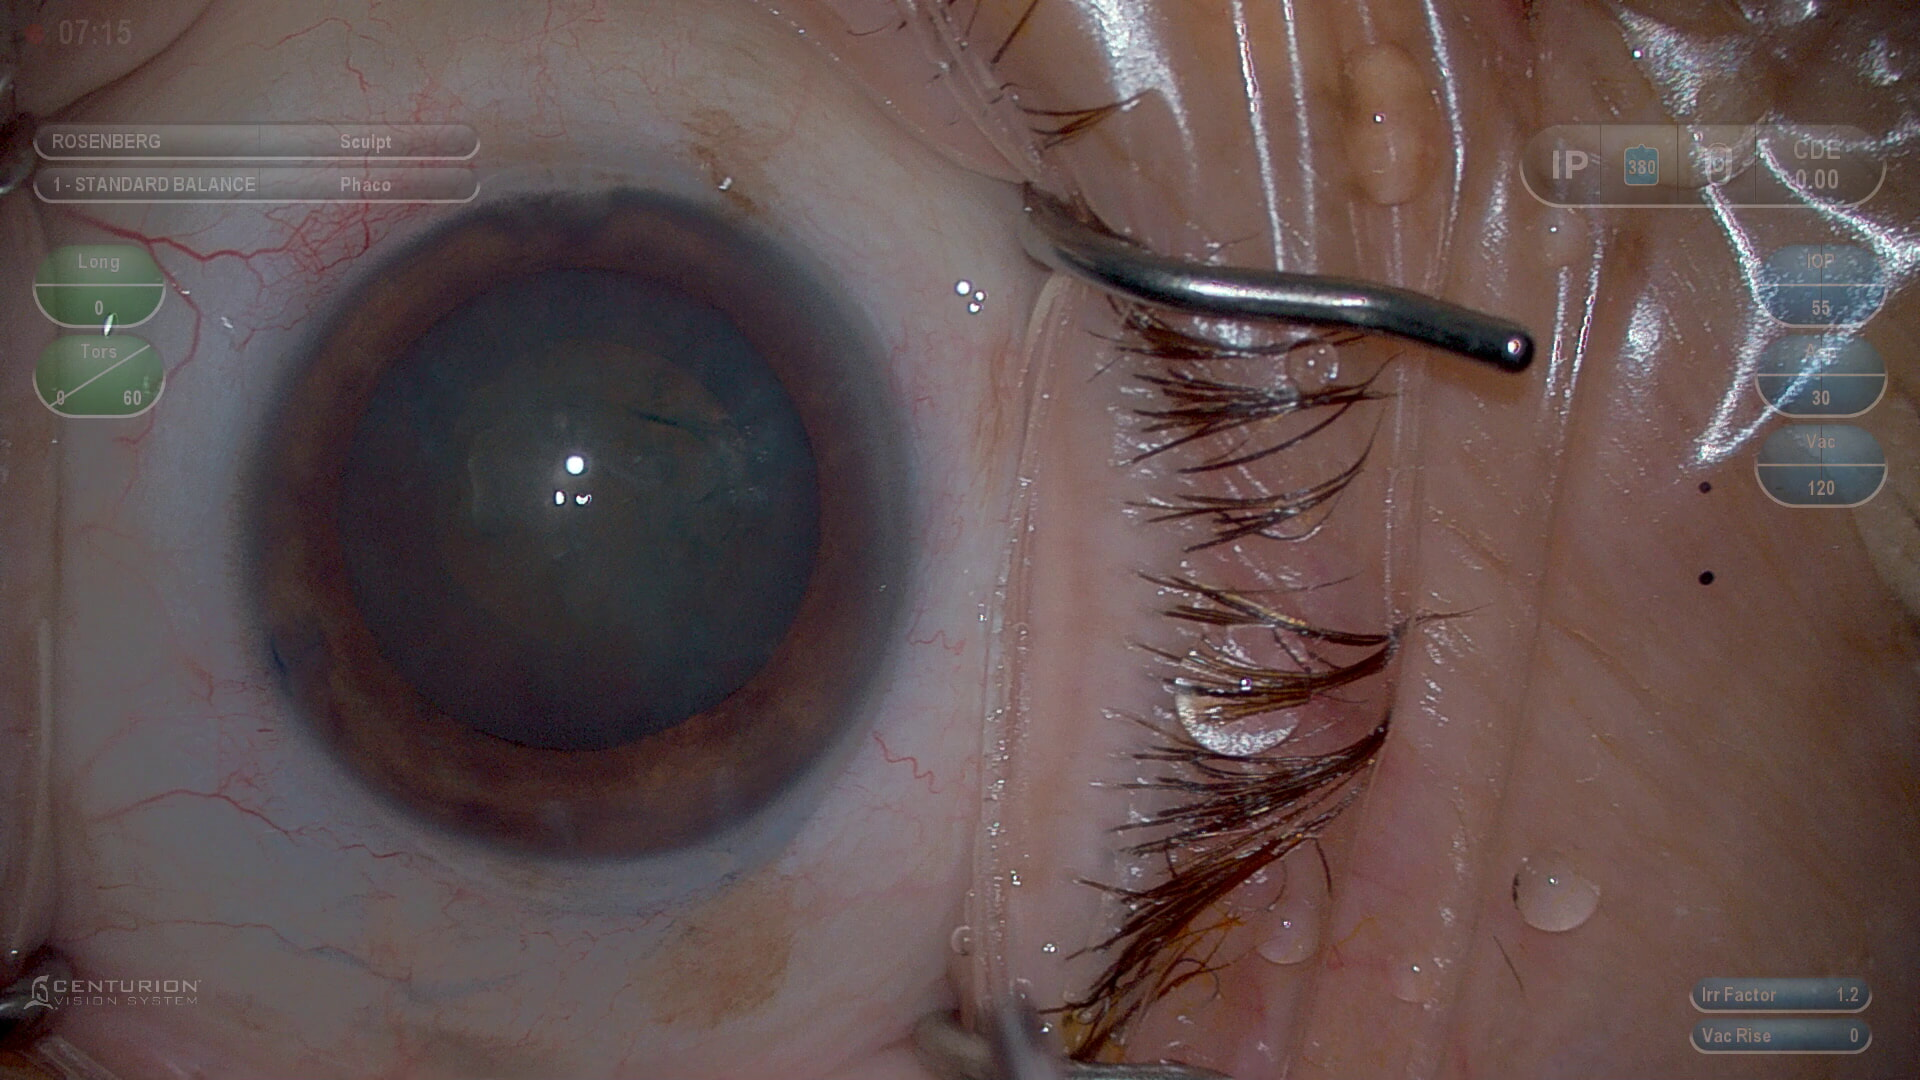iris: (252, 207, 898, 856)
pupil: (332, 272, 816, 753)
